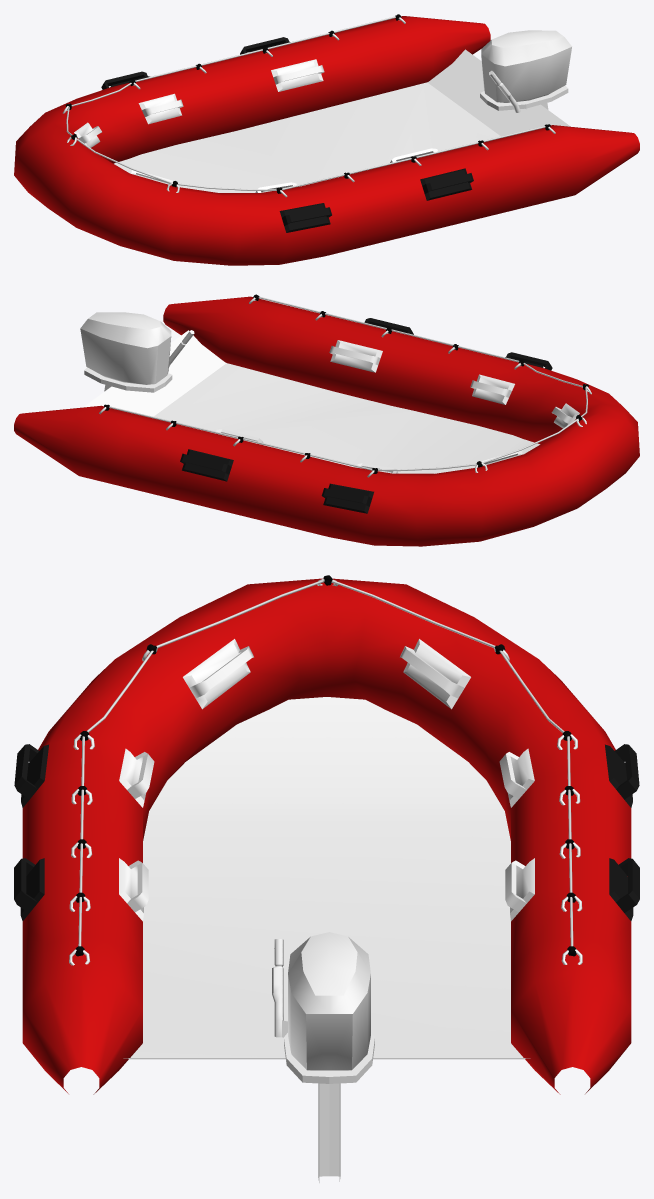
The model's file is ship.FBX.
The picture shows the model from 3 angles, top to bottom: view 1: azimuth 30°, elevation 25°; view 2: azimuth 150°, elevation 25°; view 3: azimuth 270°, elevation 25°; orthographic projection. The views are drawn at different scales.
Parts seen in each view (by area): view 1: Object009, Box001, Object010, Torus Knot007; view 2: Object009, Box001, Object010, Torus Knot007; view 3: Object009, Box001, Object010, Torus Knot007.
Part boxes in pixels (x1,y1,x2,y2): Object009: (14, 14, 639, 265); Box001: (480, 30, 571, 112); Object010: (101, 37, 473, 232); Torus Knot007: (66, 16, 545, 190); Object009: (14, 294, 639, 546); Box001: (80, 312, 194, 392); Object010: (180, 318, 552, 513); Torus Knot007: (109, 296, 587, 471); Object009: (22, 575, 631, 1094); Box001: (272, 932, 374, 1182); Object010: (14, 744, 639, 921); Torus Knot007: (78, 580, 573, 946).
Size of the model in its own units: 1082 by 271 by 680.
